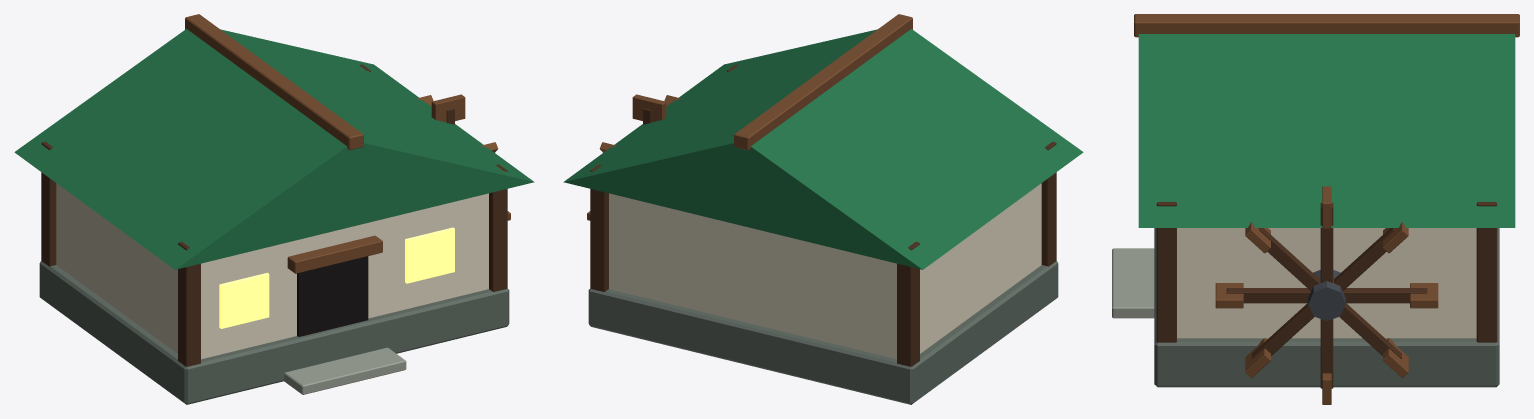
File: EM_MeadowWatermill_B.glb
The picture shows the model from 3 angles, left to right: view 1: azimuth 30°, elevation 25°; view 2: azimuth 150°, elevation 25°; view 3: azimuth 270°, elevation 25°; orthographic projection. The views are drawn at different scales.
Parts seen in each view (by area): view 1: EM_MeadowWatermill_B__RoofEmerald, EM_MeadowWatermill_B__Plaster, EM_MeadowWatermill_B__StoneBase, EM_MeadowWatermill_B__Timber, EM_MeadowWatermill_B__TimberDark, EM_MeadowWatermill_B__DoorVoid, EM_MeadowWatermill_B__WarmGlow, EM_MeadowWatermill_B__StoneLight; view 2: EM_MeadowWatermill_B__RoofEmerald, EM_MeadowWatermill_B__Plaster, EM_MeadowWatermill_B__StoneBase, EM_MeadowWatermill_B__TimberDark, EM_MeadowWatermill_B__Timber; view 3: EM_MeadowWatermill_B__RoofEmerald, EM_MeadowWatermill_B__Plaster, EM_MeadowWatermill_B__StoneBase, EM_MeadowWatermill_B__TimberDark, EM_MeadowWatermill_B__Timber, EM_MeadowWatermill_B__StoneLight, EM_MeadowWatermill_B__IronMetal.
Part boxes in pixels (x1,y1,x2,y2): EM_MeadowWatermill_B__RoofEmerald: [14, 29, 534, 269]; EM_MeadowWatermill_B__Plaster: [56, 183, 488, 359]; EM_MeadowWatermill_B__StoneBase: [39, 261, 509, 404]; EM_MeadowWatermill_B__Timber: [185, 14, 510, 273]; EM_MeadowWatermill_B__TimberDark: [41, 64, 507, 366]; EM_MeadowWatermill_B__DoorVoid: [297, 256, 368, 336]; EM_MeadowWatermill_B__WarmGlow: [219, 227, 454, 328]; EM_MeadowWatermill_B__StoneLight: [284, 347, 406, 394]; EM_MeadowWatermill_B__RoofEmerald: [563, 29, 1083, 269]; EM_MeadowWatermill_B__Plaster: [609, 183, 1041, 359]; EM_MeadowWatermill_B__StoneBase: [588, 261, 1058, 404]; EM_MeadowWatermill_B__TimberDark: [590, 64, 1056, 366]; EM_MeadowWatermill_B__Timber: [587, 14, 912, 220]; EM_MeadowWatermill_B__RoofEmerald: [1138, 34, 1515, 227]; EM_MeadowWatermill_B__Plaster: [1177, 228, 1476, 338]; EM_MeadowWatermill_B__StoneBase: [1154, 228, 1499, 387]; EM_MeadowWatermill_B__TimberDark: [1156, 202, 1497, 388]; EM_MeadowWatermill_B__Timber: [1134, 14, 1519, 404]; EM_MeadowWatermill_B__StoneLight: [1112, 248, 1154, 318]; EM_MeadowWatermill_B__IronMetal: [1308, 270, 1345, 321].
Size of the model in its own units: 31.8 by 19.65 by 26.
